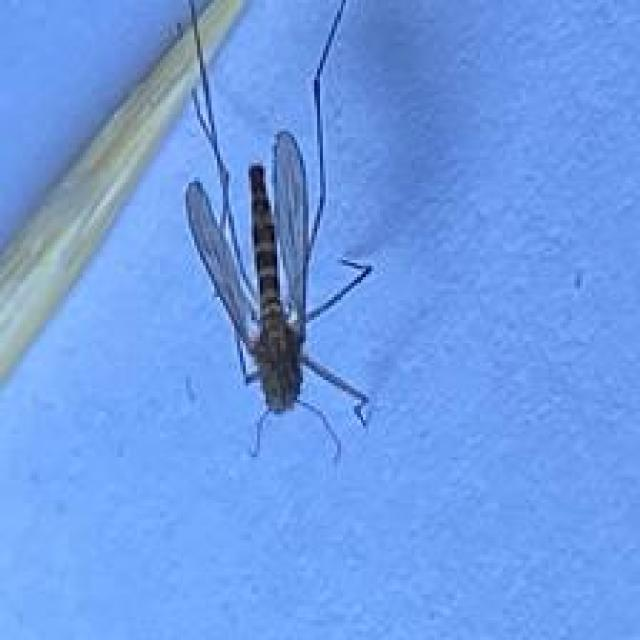Culex: (177, 0, 374, 466)
